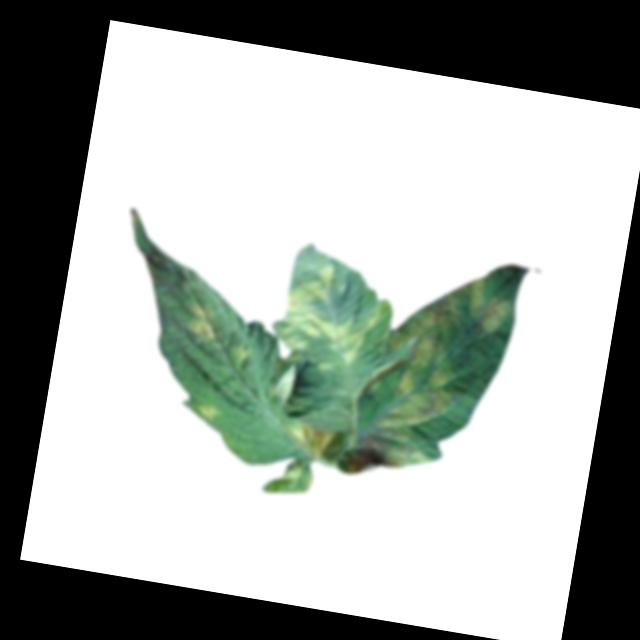Leaf_Mold: (343, 262, 511, 495), (274, 261, 375, 376), (182, 299, 229, 342), (285, 419, 335, 459), (197, 398, 224, 419)
